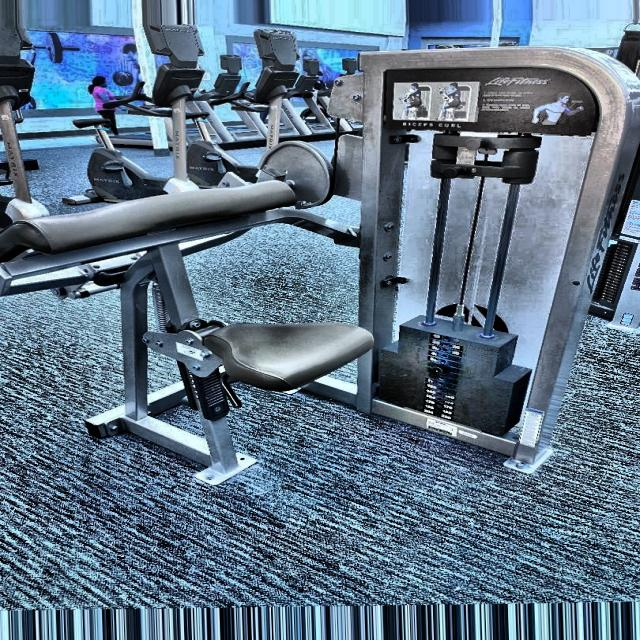bicep_curl_machine: (0, 68, 385, 498), (383, 64, 594, 142)
